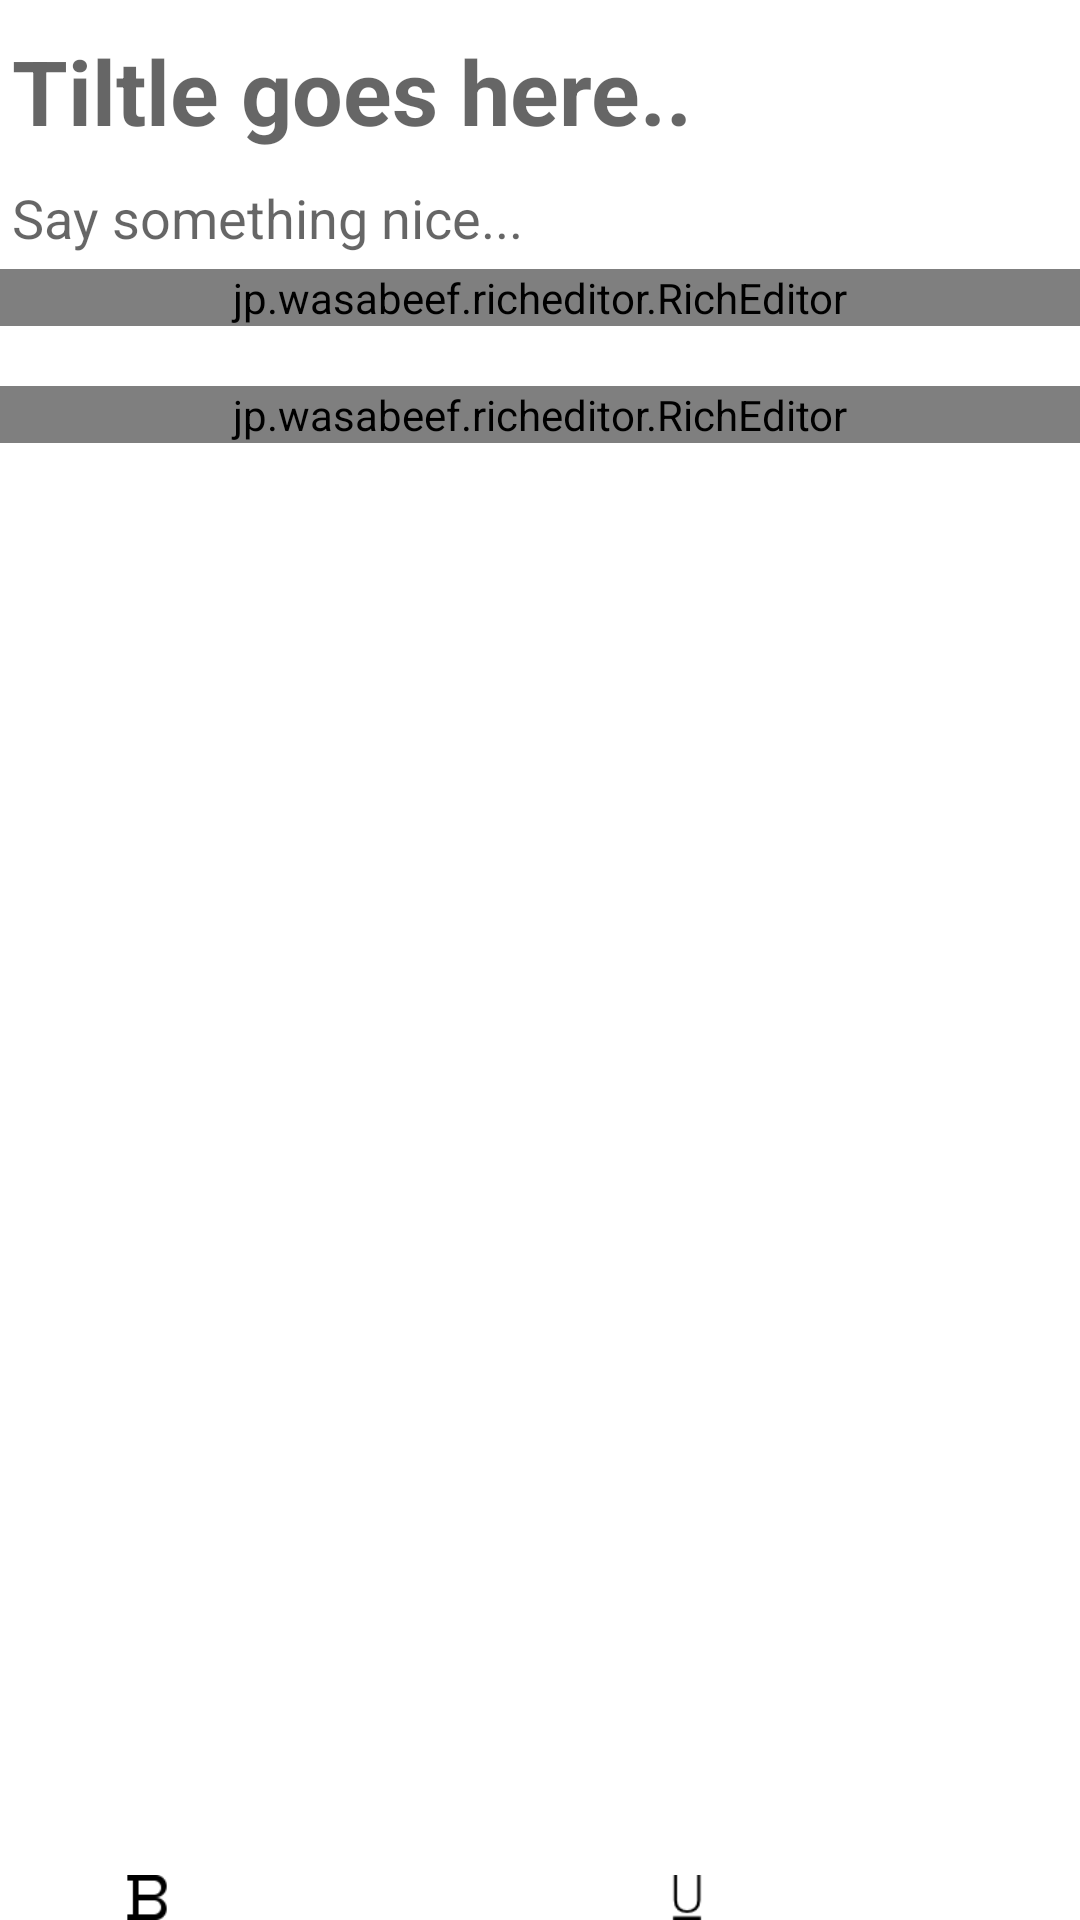

Icon bounding boxes for this 1080x1920 phone screenshot, format bbox=[x1, y1, x2, y2]:
fontbold: bbox=[127, 1875, 167, 1920]
fontunderline: bbox=[672, 1875, 702, 1920]
